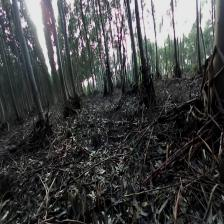trunk: (13, 7, 45, 120), (52, 22, 70, 104), (135, 4, 151, 78), (126, 5, 137, 56), (195, 6, 202, 71)
